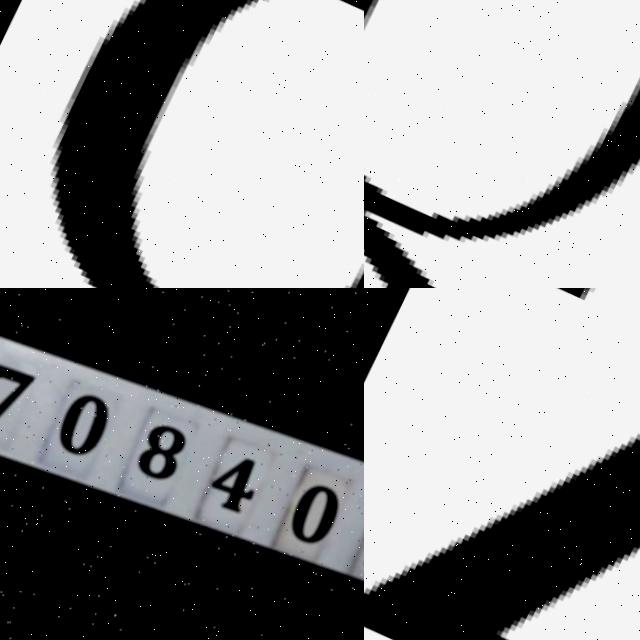0: (23, 358, 142, 487), (260, 455, 364, 571)
1: (333, 482, 364, 599)
4: (177, 419, 292, 544)
7: (0, 331, 60, 456)
8: (107, 392, 214, 509)
Q: (0, 0, 364, 288), (364, 0, 640, 288)
Z: (364, 288, 640, 640)
